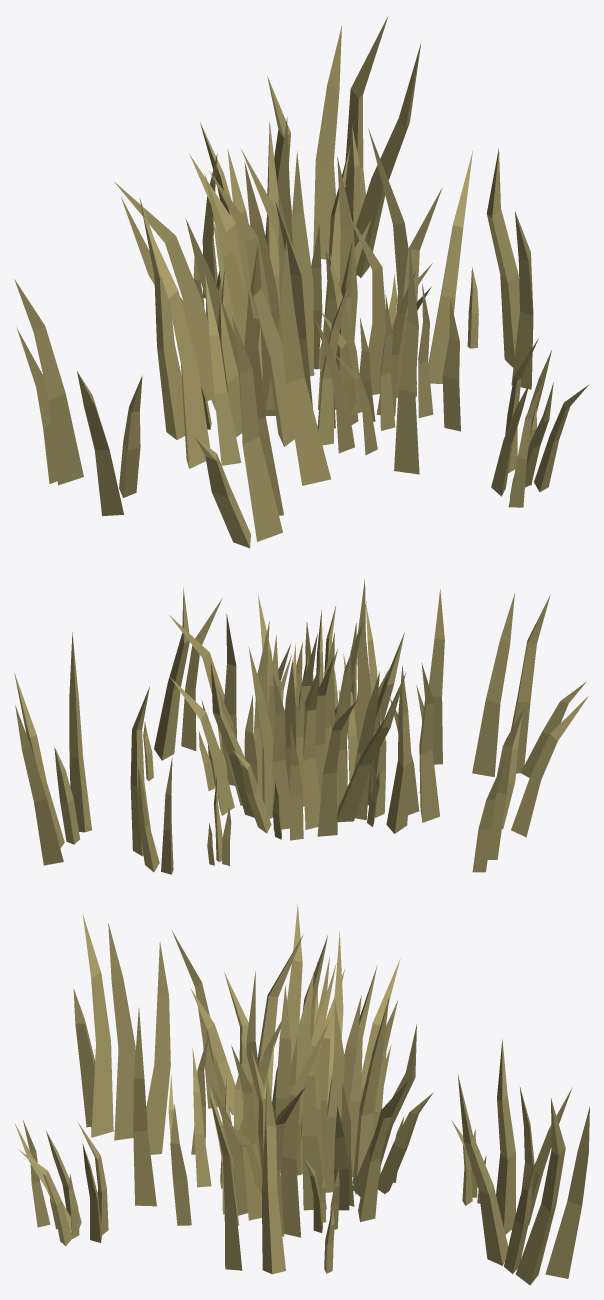
Rendered from grass_yellow.glb.
3 views of the same model, one above another, from view 1: azimuth 30°, elevation 25°; view 2: azimuth 150°, elevation 25°; view 3: azimuth 270°, elevation 25° (orthographic). The views are drawn at different scales.
Parts seen in each view (by area): view 1: group1744197509, group1681983211, group1697339476, group443349435, group1255547812, group678362861, group908757786, group54891894, group2043014497, group208637188, group2019195407, group1825840008 (+48 smaller); view 2: group343340000, group2043014497, group908757786, group54891894, group1255547812, group612556706, group1697339476, group277299665, group902223660, group1681983211, group46854911, group228620189 (+37 smaller); view 3: group343340000, group1681983211, group1744197509, group54891894, group1661925368, group2043014497, group252032136, group1255547812, group678362861, group1101659140, group619381689, group1072724566 (+44 smaller).
Part boxes in pixels (bbox=[...]): group1744197509: bbox=[279, 241, 330, 485]; group1681983211: bbox=[232, 316, 282, 541]; group1697339476: bbox=[143, 215, 210, 468]; group443349435: bbox=[14, 279, 83, 485]; group1255547812: bbox=[313, 25, 341, 259]; group678362861: bbox=[394, 246, 419, 474]; group908757786: bbox=[139, 198, 184, 439]; group54891894: bbox=[486, 148, 519, 367]; group2043014497: bbox=[354, 42, 421, 277]; group208637188: bbox=[428, 151, 472, 383]; group2019195407: bbox=[250, 243, 294, 446]; group1825840008: bbox=[205, 275, 241, 465]; group343340000: bbox=[472, 593, 514, 777]; group2043014497: bbox=[69, 632, 91, 832]; group908757786: bbox=[386, 665, 411, 833]; group54891894: bbox=[154, 587, 189, 760]; group1255547812: bbox=[15, 705, 63, 865]; group612556706: bbox=[303, 664, 320, 829]; group1697339476: bbox=[419, 663, 439, 822]; group277299665: bbox=[337, 672, 406, 822]; group902223660: bbox=[317, 701, 356, 836]; group1681983211: bbox=[510, 595, 550, 773]; group46854911: bbox=[272, 674, 289, 830]; group228620189: bbox=[511, 696, 588, 837]; group343340000: bbox=[108, 923, 135, 1140]; group1681983211: bbox=[82, 914, 113, 1137]; group1744197509: bbox=[146, 942, 170, 1154]; group54891894: bbox=[261, 1072, 285, 1274]; group1661925368: bbox=[515, 1098, 565, 1285]; group2043014497: bbox=[458, 1075, 508, 1265]; group252032136: bbox=[281, 1020, 329, 1237]; group1255547812: bbox=[545, 1106, 589, 1278]; group678362861: bbox=[133, 1007, 156, 1206]; group1101659140: bbox=[496, 1039, 515, 1234]; group619381689: bbox=[302, 1008, 326, 1210]; group1072724566: bbox=[352, 996, 389, 1194].
Bounding box in the file's own units: 0.5831 × 0.2873 × 0.6368.
